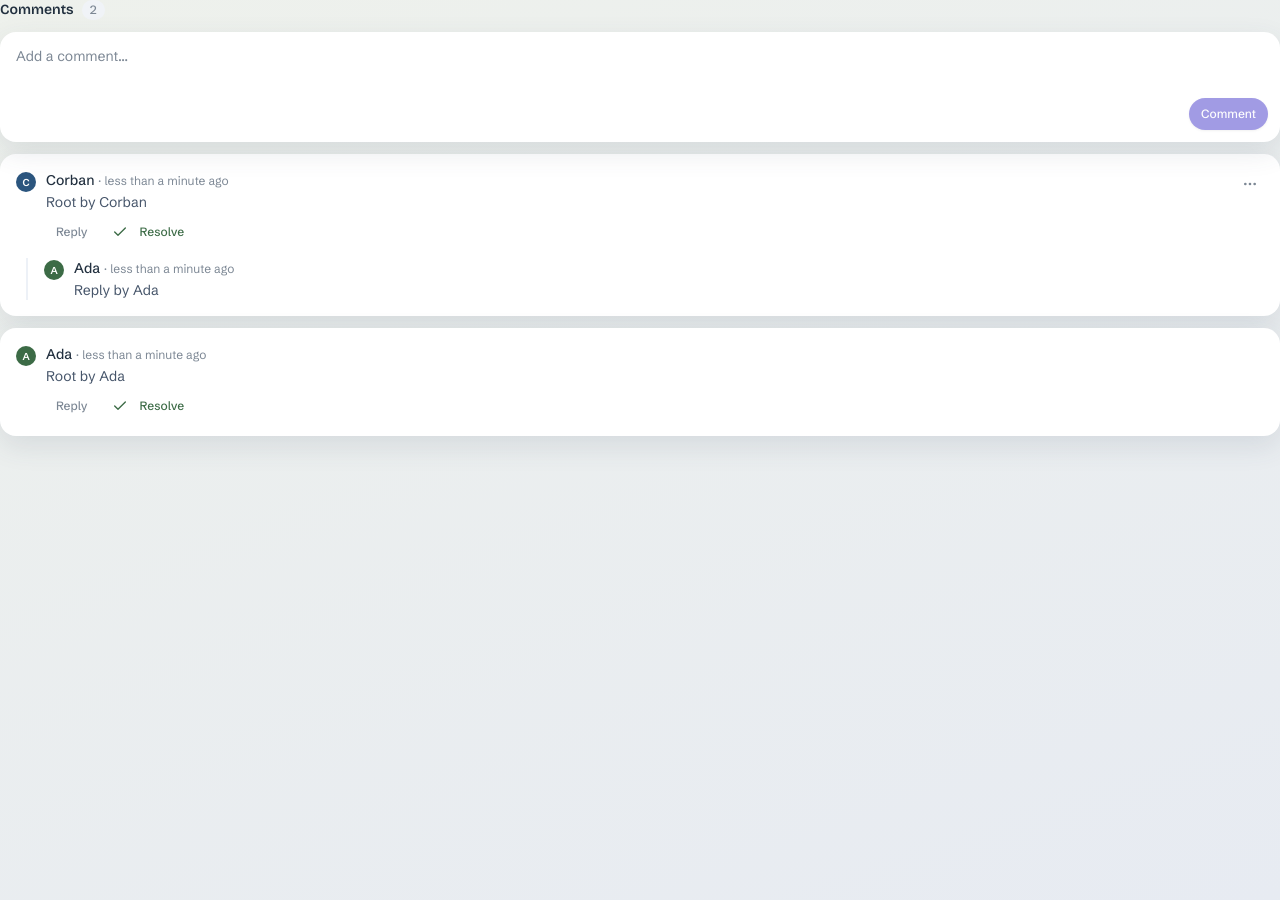
Test case: CommentsSection › deletes my own comment from the actions menu
Expected: the text "Root by Corban" is shown, 46,193 -> 147,211
Click the button named "Comment actions" at (1250, 184), box 1236,170 -> 1264,198
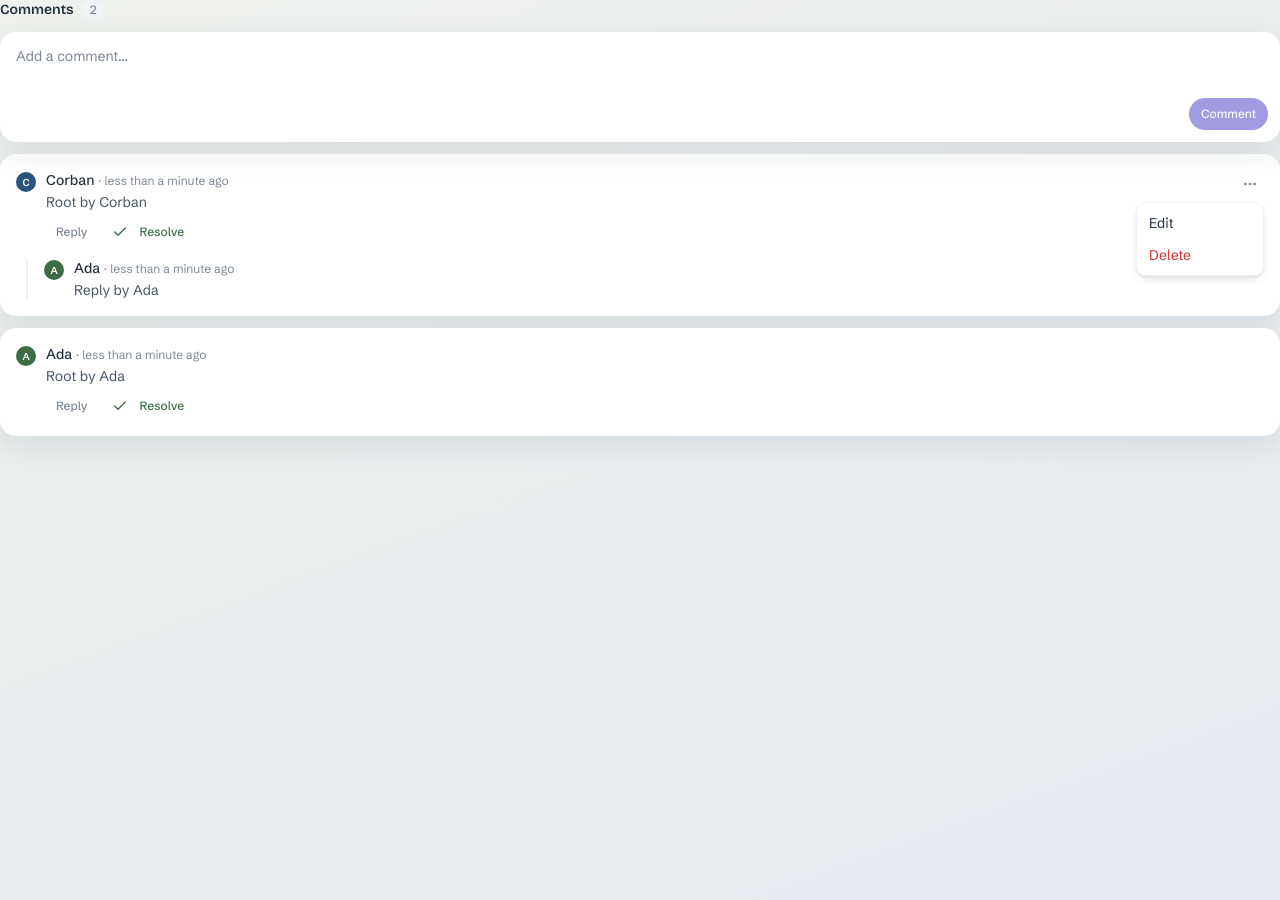
Click the menu item "Delete" at (1170, 255), box 1149,246 -> 1191,264
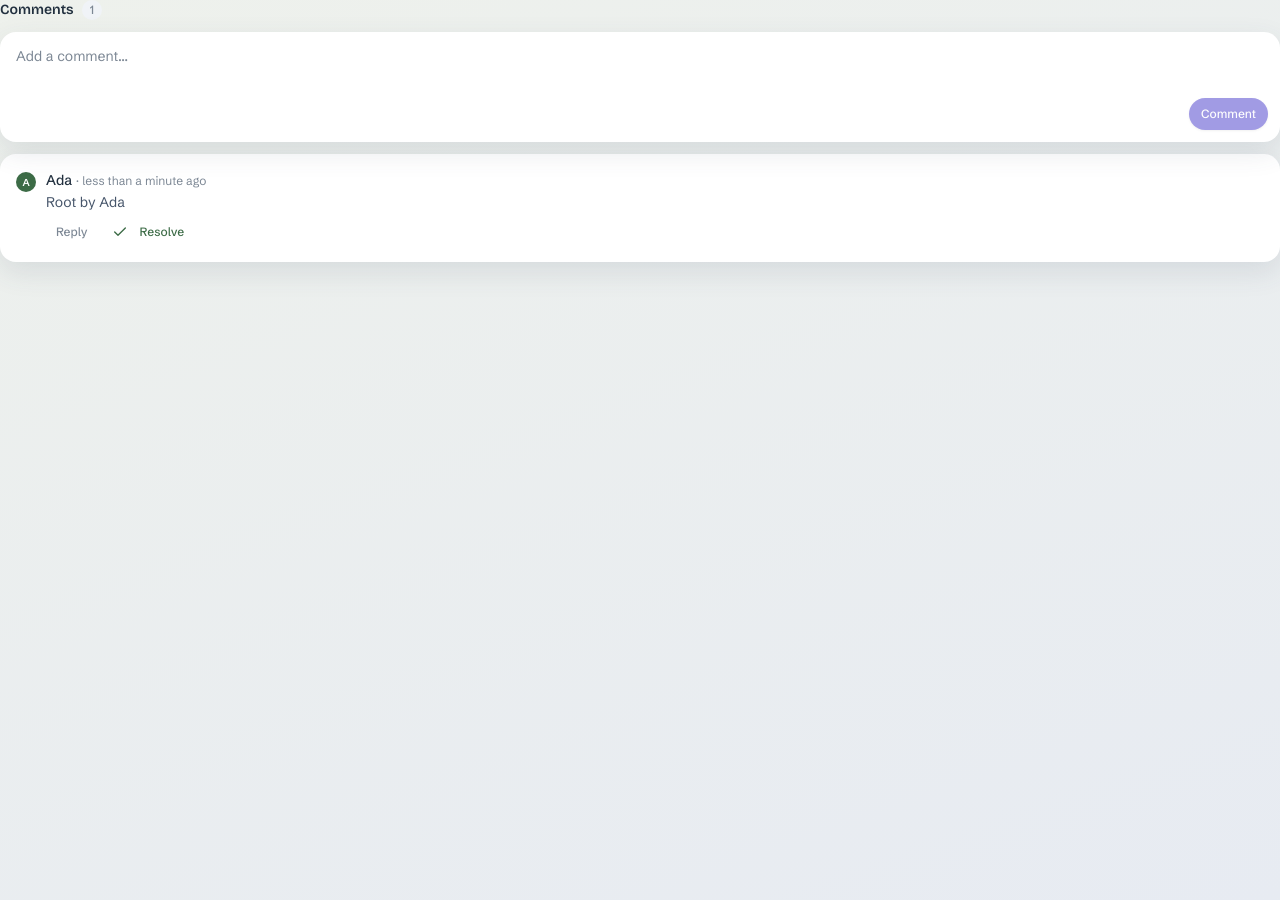
Result: the text "Root by Corban" is gone
